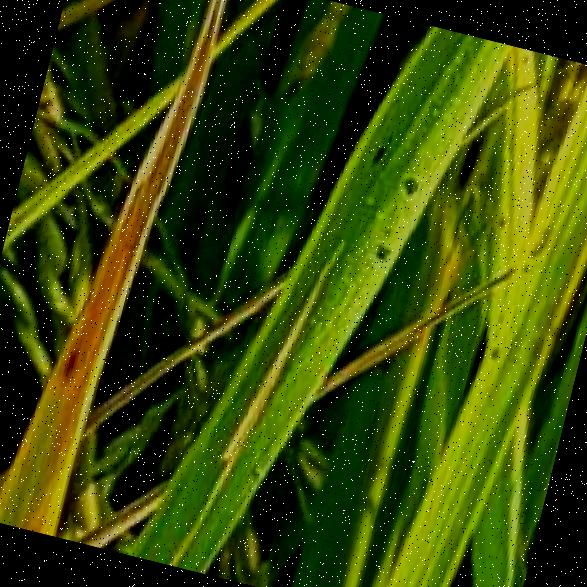Bacteria_Leaf_Blight: (42, 0, 240, 426)
